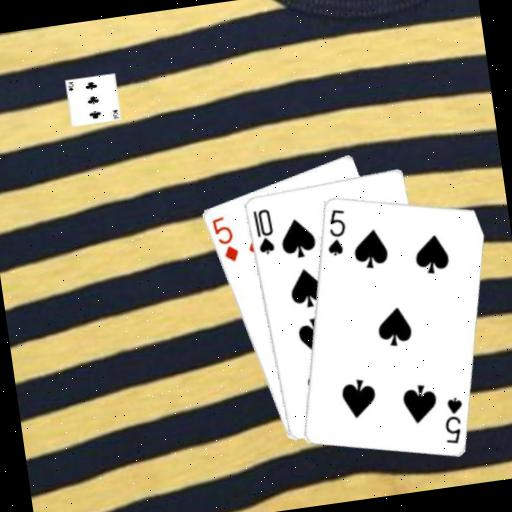10S: (249, 205, 278, 258)
5D: (208, 212, 242, 266)
5S: (320, 204, 352, 258), (437, 392, 469, 446)
